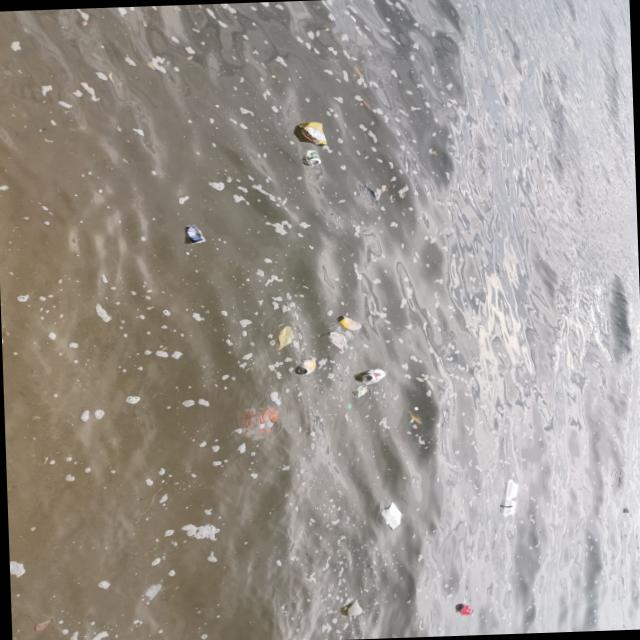can: (335, 313, 360, 331), (182, 224, 205, 243), (360, 368, 385, 384), (294, 359, 314, 375), (303, 148, 320, 166), (455, 602, 471, 615)
foam: (501, 478, 518, 518), (380, 500, 401, 530)
plastic bottle: (237, 406, 280, 439), (296, 120, 327, 146)
unknow: (326, 320, 354, 341), (274, 326, 293, 351), (362, 182, 382, 205), (327, 332, 346, 352), (345, 599, 362, 616), (349, 385, 366, 398)
